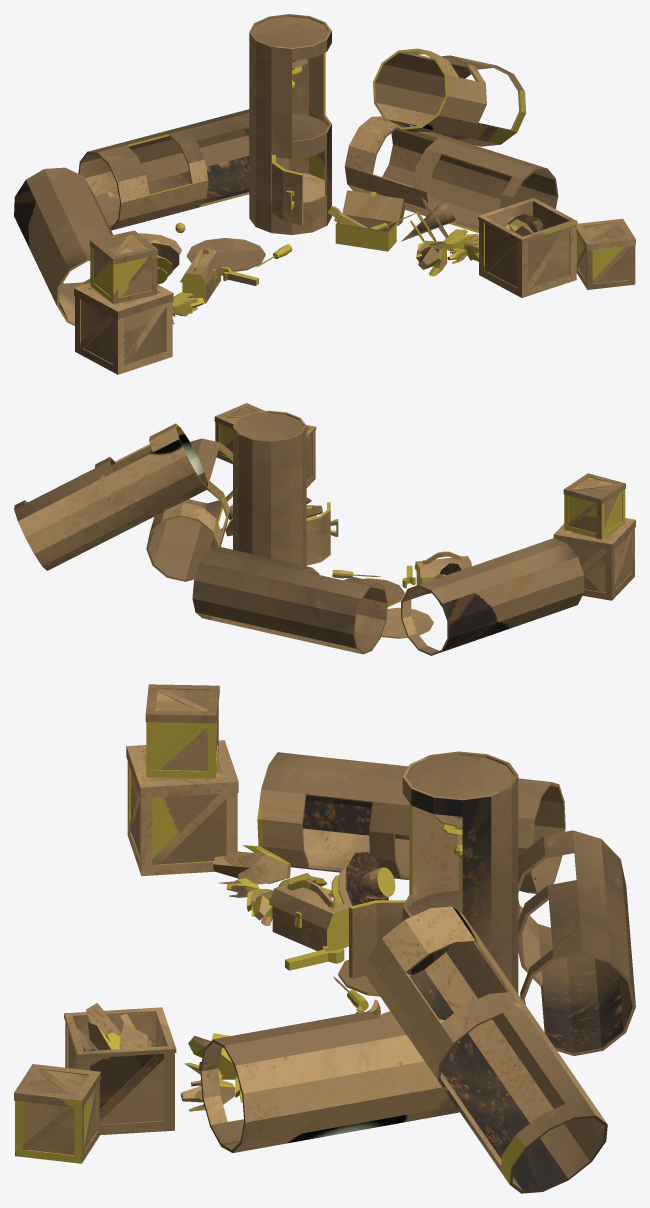
The model's file is Analysis station gravegard.fbx.
The picture shows the model from 3 angles, top to bottom: view 1: azimuth 30°, elevation 25°; view 2: azimuth 150°, elevation 25°; view 3: azimuth 270°, elevation 25°; orthographic projection. The views are drawn at different scales.
Parts seen in each view (by area): view 1: toolbox1_pCube27; view 2: toolbox1_pCube27; view 3: toolbox1_pCube27.
Part boxes in pixels (left/top/right/bottom): toolbox1_pCube27: left=14, top=14, right=635, bottom=374; toolbox1_pCube27: left=14, top=403, right=635, bottom=655; toolbox1_pCube27: left=14, top=684, right=635, bottom=1193.
Size of the model in its own units: 652 by 213 by 450.
